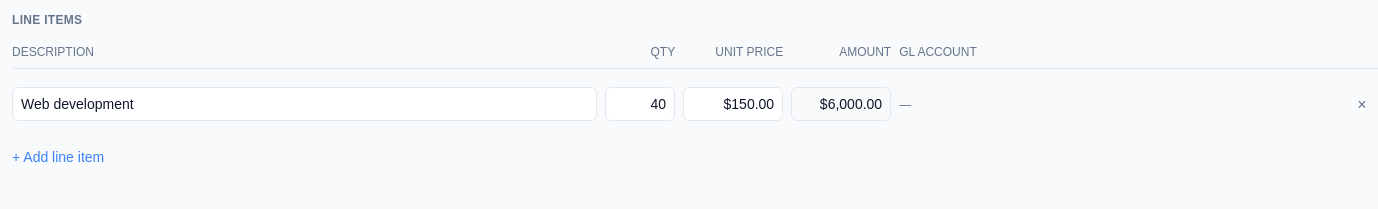
Test case: LineItemEditor › shows confirmation for removing last item
Click the button named "remove".
click(1362, 105)  # box [1357,93,1367,117]
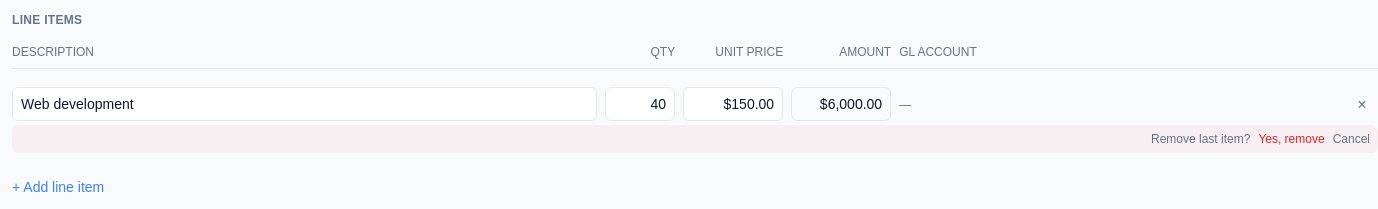
Check: the text "Remove last item?" is shown, box [1151,131,1250,147]
